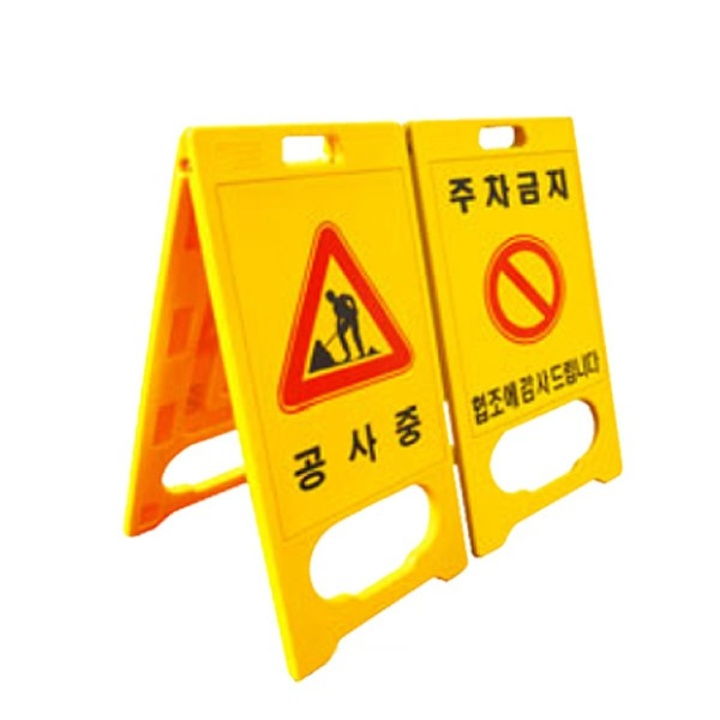const: (303, 288, 382, 376)
